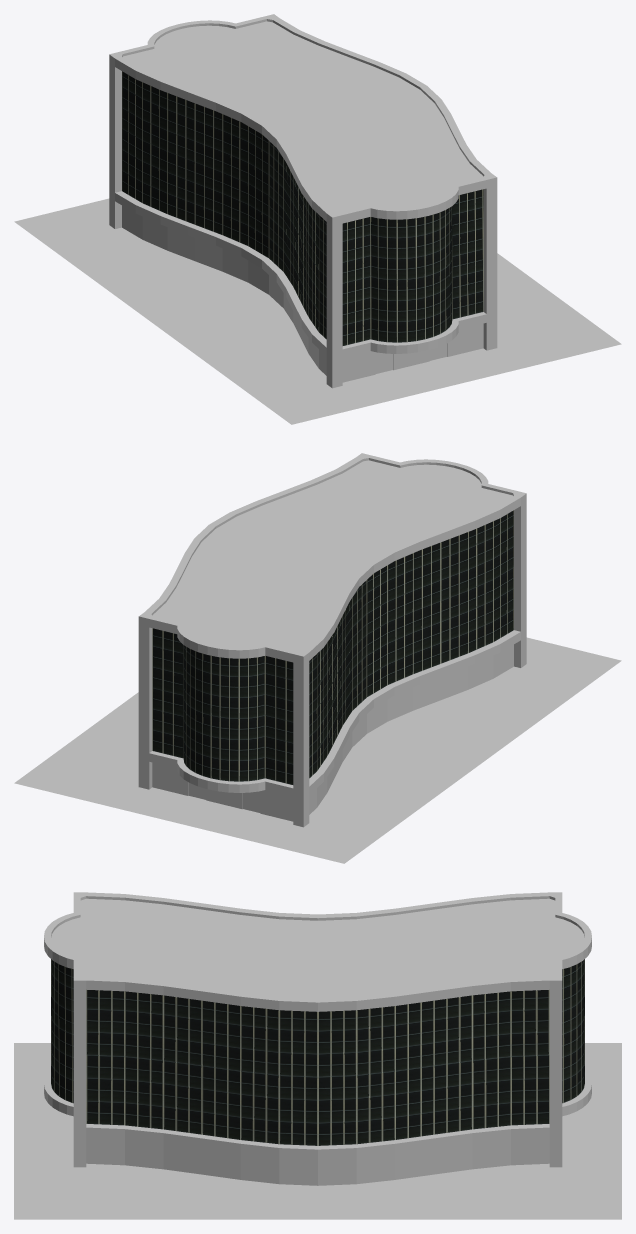
3 views of the same model, one above another, from view 1: azimuth 30°, elevation 25°; view 2: azimuth 150°, elevation 25°; view 3: azimuth 270°, elevation 25° (orthographic). The views are drawn at different scales.
Parts seen in each view (by area): view 1: M-014; view 2: M-014; view 3: M-014.
Part boxes in pixels (bbox=[...]): M-014: bbox=[14, 14, 621, 424]; M-014: bbox=[14, 453, 621, 863]; M-014: bbox=[14, 892, 621, 1219].
Size of what is drawn, in the model's own units: 49.47 by 24.43 by 72.
